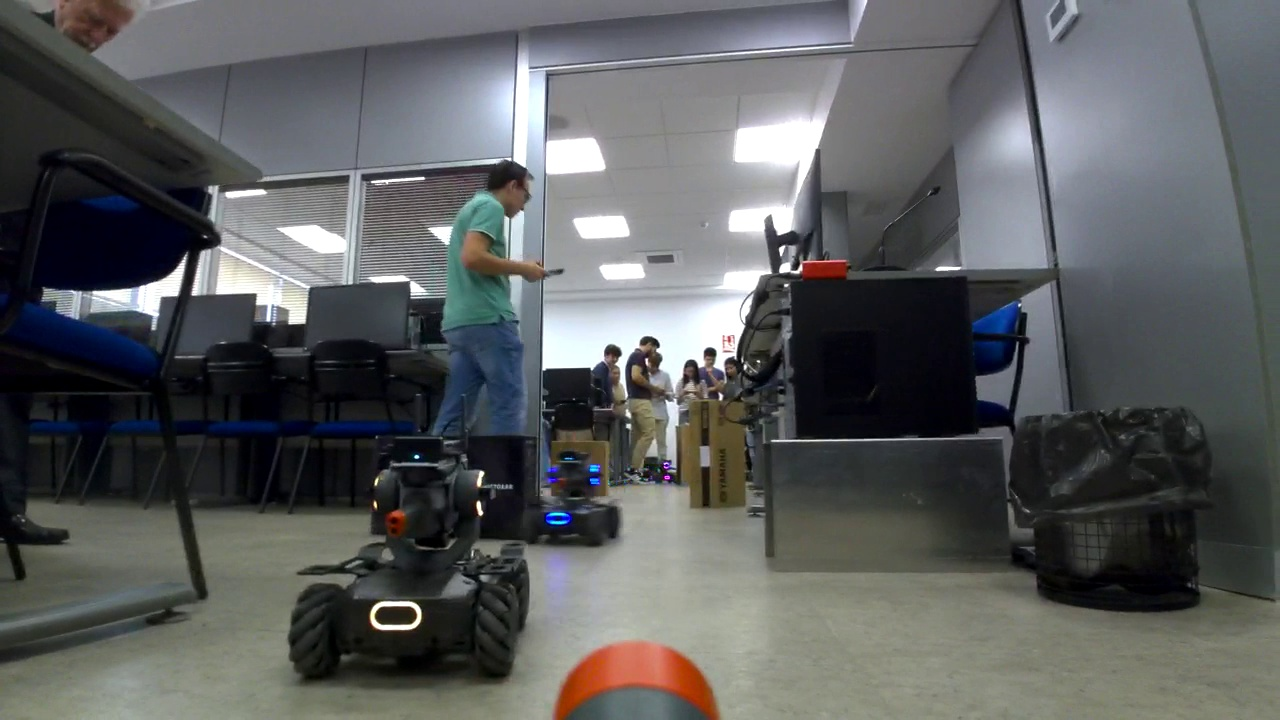robot: (292, 449, 529, 688), (531, 453, 618, 548), (657, 450, 673, 478)
